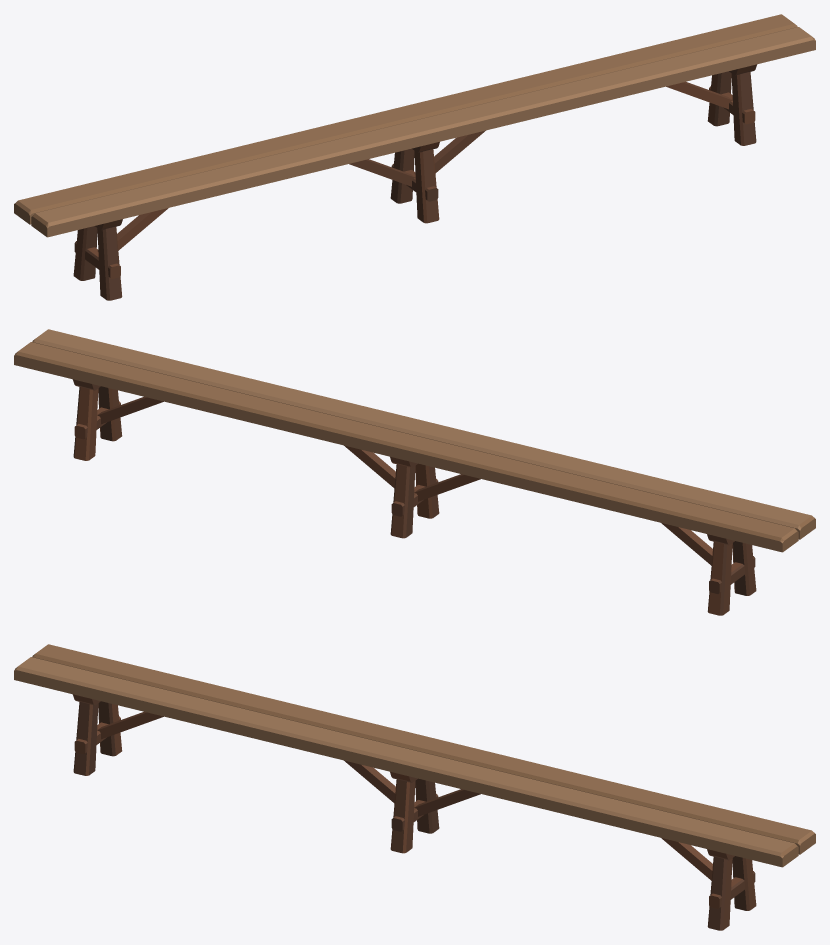
Rendered from plank-bench-c46528.glb.
3 views of the same model, one above another, from view 1: azimuth 30°, elevation 25°; view 2: azimuth 150°, elevation 25°; view 3: azimuth 330°, elevation 25° (orthographic).
Size of the model in its own units: 4 by 0.45 by 0.3223.
